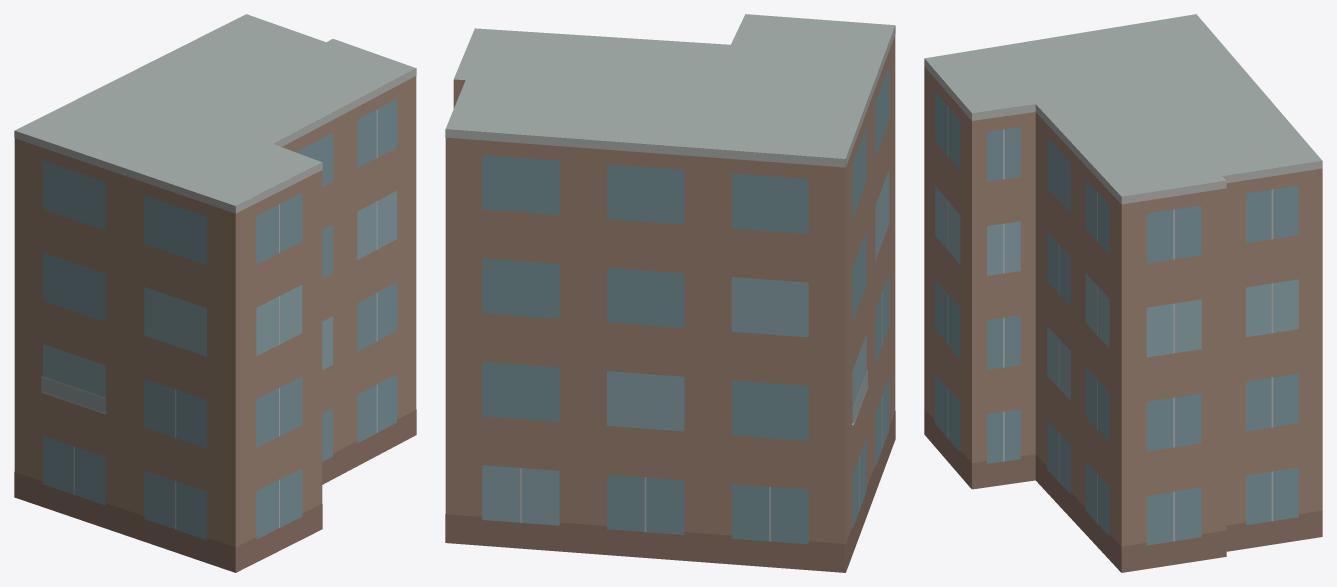
File: survey-upis-32462493.glb
3 views of the same model, side by side, from view 1: azimuth 30°, elevation 25°; view 2: azimuth 150°, elevation 25°; view 3: azimuth 270°, elevation 25° (orthographic). The views are drawn at different scales.
Parts seen in each view (by area): view 1: survey-upis-32462493.tmp; view 2: survey-upis-32462493.tmp; view 3: survey-upis-32462493.tmp.
Part boxes in pixels (x1=…): survey-upis-32462493.tmp: x1=14, y1=14, x2=416, y2=572; survey-upis-32462493.tmp: x1=445, y1=14, x2=895, y2=572; survey-upis-32462493.tmp: x1=924, y1=14, x2=1322, y2=572.
Size of the model in its own units: 12.41 by 11.9 by 11.43.
